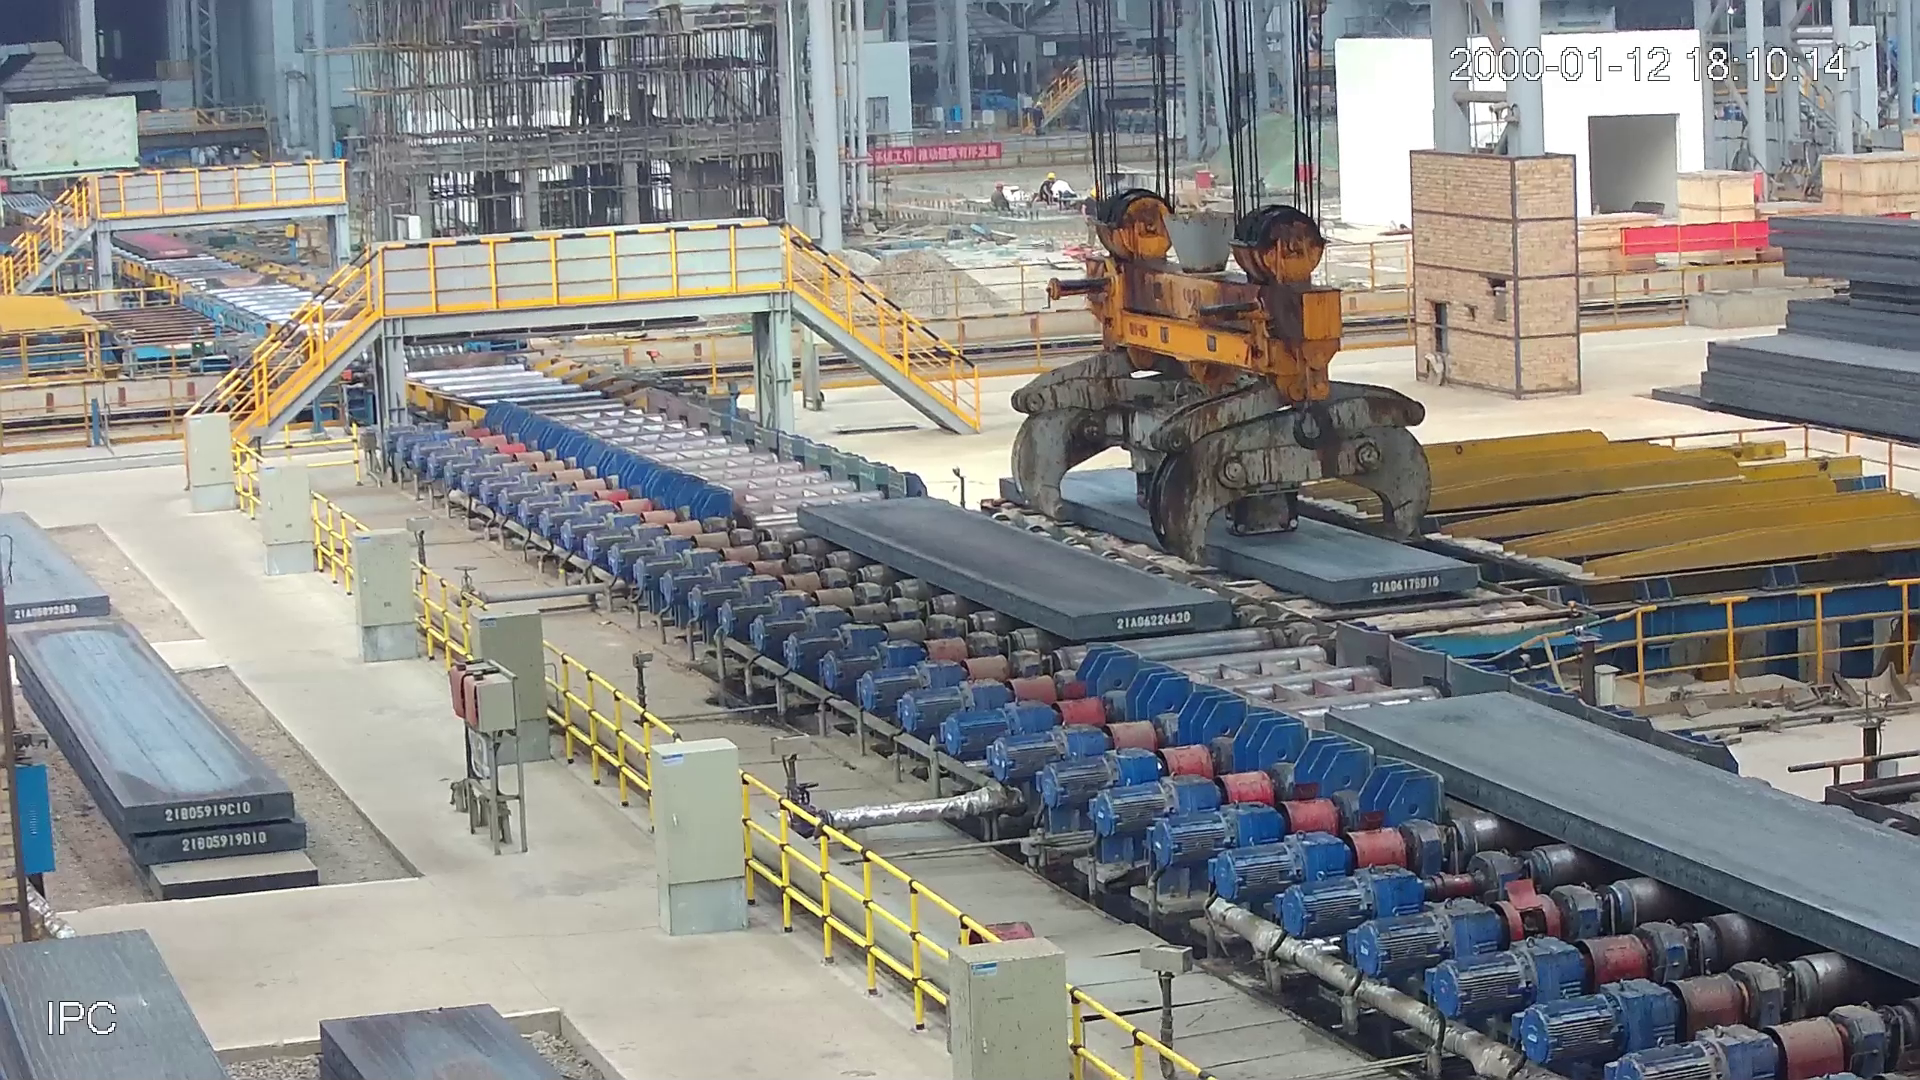craneandslab: (994, 182, 1487, 615)
slab: (1315, 687, 1920, 992), (789, 493, 1234, 644), (105, 225, 202, 265)
